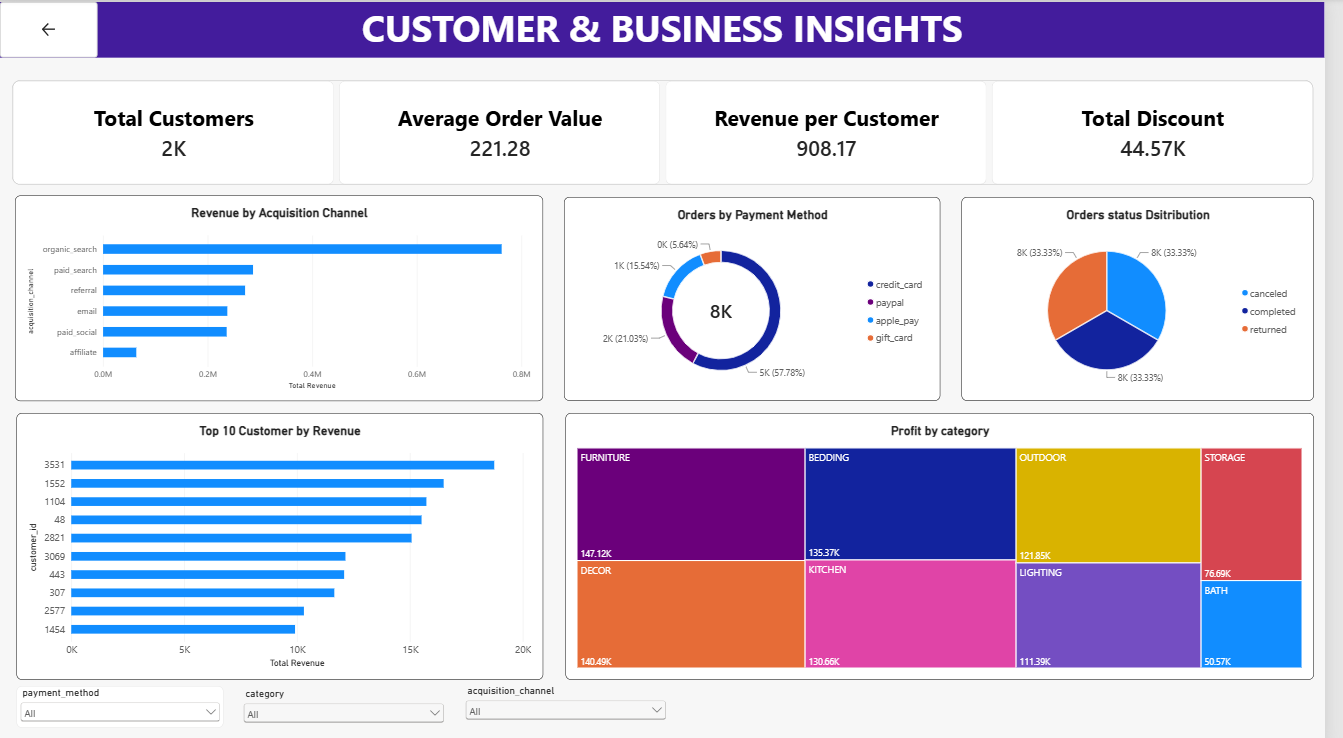

This screenshot's page, from the dashboard's own definition file:
{"tool":"powerbi","page":{"name":"Customer & Business Insights","canvas":[1920,1080],"ordinal":1},"visuals":[{"type":"cardVisual","fields":{"Data":["Table.Total Customers","Table.Average Order Value","Table.Revenue per Customer","Table.Total Discount"]},"box":[17.4,113,1887,152.2],"z":0},{"type":"barChart","title":"Revenue by Acquisition Channel","fields":{"Category":["ecommerce_analytics sales_detail.acquisition_channel"],"Y":["Table.Total Revenue"]},"box":[21.7,280.4,765.2,297.8],"z":1000},{"type":"clusteredBarChart","title":"Top 10 Customer by Revenue ","fields":{"Category":["ecommerce_analytics sales_detail.customer_id"],"Y":["Table.Total Revenue"]},"box":[23.9,595.7,763,387],"z":2000},{"type":"donutChart","title":"Orders by Payment Method","fields":{"Category":["ecommerce_analytics sales_detail.payment_method"],"Y":["Table.Total Orders"]},"box":[817.4,282.6,545.7,295.7],"z":3000},{"type":"pieChart","title":"Orders status Dsitribution","fields":{"Category":["ecommerce_analytics sales_detail.status"],"Y":["Table.Total Orders"]},"box":[1393.5,282.6,510.9,295.7],"z":4000},{"type":"treemap","title":"Profit by category","fields":{"Group":["ecommerce_analytics sales_detail.category"],"Values":["Table.Total Profit"]},"box":[819.6,595.7,1084.8,387],"z":5000},{"type":"textbox","box":[0,0,1919.6,80.4],"z":6000},{"type":"actionButton","box":[0,0,141.3,80.4],"z":7001},{"type":"slicer","fields":{"Values":["ecommerce_analytics sales_detail.payment_method"]},"box":[23.9,991.3,300,60.9],"z":7002},{"type":"slicer","fields":{"Values":["ecommerce_analytics sales_detail.category"]},"box":[347.8,993.5,300,58.7],"z":7003},{"type":"slicer","fields":{"Values":["ecommerce_analytics sales_detail.acquisition_channel"]},"box":[669.6,989.1,300,63],"z":7004}]}

Visuals, with their boxes in screenshot pixels (x1, y1, x2, y2), scaled from the page's 1920x1080 canvas onto the 1343x738 screenshot:
cardVisual - Table.Total Customers x Table.Average Order Value: <region>12, 77, 1332, 181</region>
"Revenue by Acquisition Channel" barChart: <region>15, 192, 550, 395</region>
"Top 10 Customer by Revenue " clusteredBarChart: <region>17, 407, 550, 672</region>
"Orders by Payment Method" donutChart: <region>572, 193, 953, 395</region>
"Orders status Dsitribution" pieChart: <region>975, 193, 1332, 395</region>
"Profit by category" treemap: <region>573, 407, 1332, 672</region>
textbox: <region>0, 0, 1342, 55</region>
actionButton: <region>0, 0, 99, 55</region>
slicer - ecommerce_analytics sales_detail.payment_method: <region>17, 677, 227, 719</region>
slicer - ecommerce_analytics sales_detail.category: <region>243, 679, 453, 719</region>
slicer - ecommerce_analytics sales_detail.acquisition_channel: <region>468, 676, 678, 719</region>
